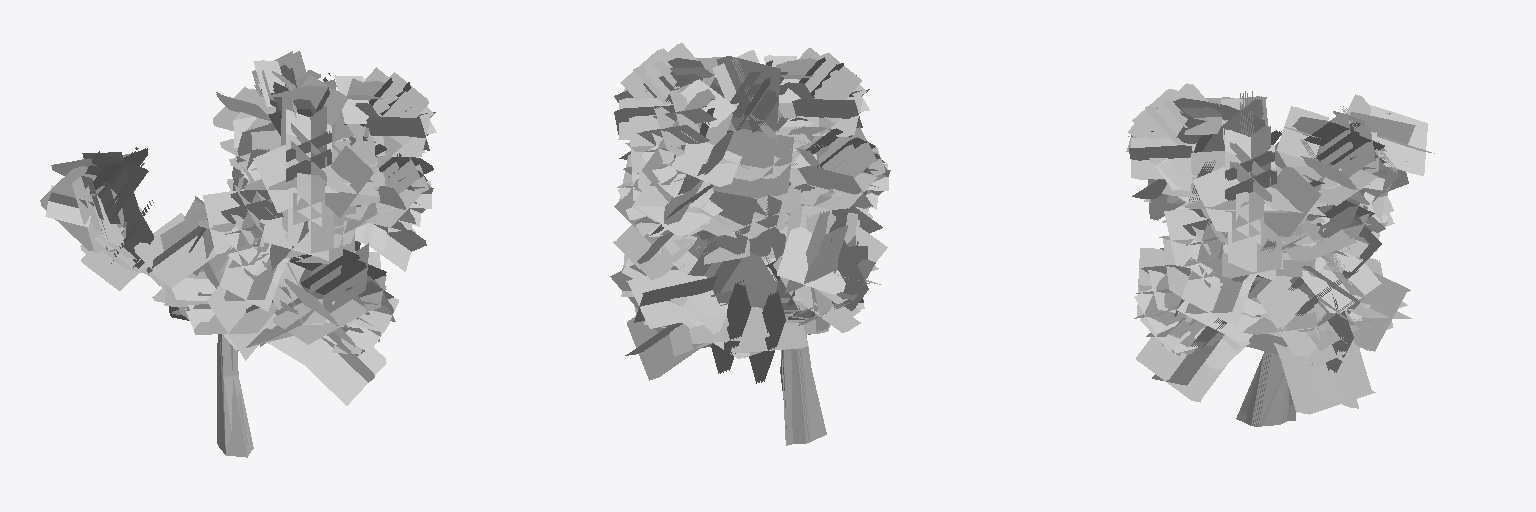
The model's file is Sharp_ScrubPine04.obj.
The picture shows the model from 3 angles: view 1: azimuth 30°, elevation 25°; view 2: azimuth 150°, elevation 25°; view 3: azimuth 270°, elevation 25°; orthographic projection.
Visible parts, largest first — view 1: Efol#3_Mesh.013, AFOl#3_Mesh.043, Dfol#3_Mesh.023, Cfol#3_Mesh.033, Bfol#3_Mesh.053, Efol#2_Mesh.012, Trunk#3_Mesh.003, AFOl#2_Mesh.042, Dfol#2_Mesh.022, Efol_Mesh.011, Cfol_Mesh.031, Cfol#2_Mesh.032 (+11 smaller); view 2: Efol#6_Mesh.016, Efol#3_Mesh.013, Efol#7_Mesh.017, AFOl#9_Mesh.049, Dfol#7_Mesh.027, Cfol#9_Mesh.039, Efol#10_Mesh.020, AFOl#7_Mesh.047, AFOl#10_Mesh.050, Efol#9_Mesh.019, AFOl#8_Mesh.048, Efol#4_Mesh.014 (+26 smaller); view 3: Efol#3_Mesh.013, AFOl#3_Mesh.043, Efol#6_Mesh.016, AFOl#8_Mesh.048, AFOl#7_Mesh.047, Efol#7_Mesh.017, Efol#4_Mesh.014, AFOl#10_Mesh.050, Cfol#9_Mesh.039, Efol#8_Mesh.018, Dfol#3_Mesh.023, Efol#5_Mesh.015 (+19 smaller).
Part boxes in pixels (left/top/right/bottom): Efol#3_Mesh.013: left=214, top=54, right=432, bottom=260; AFOl#3_Mesh.043: left=154, top=241, right=398, bottom=405; Dfol#3_Mesh.023: left=202, top=138, right=431, bottom=311; Cfol#3_Mesh.033: left=42, top=148, right=153, bottom=290; Bfol#3_Mesh.053: left=135, top=200, right=224, bottom=329; Efol#2_Mesh.012: left=215, top=63, right=436, bottom=258; Trunk#3_Mesh.003: left=147, top=274, right=253, bottom=457; AFOl#2_Mesh.042: left=169, top=241, right=397, bottom=405; Dfol#2_Mesh.022: left=205, top=147, right=433, bottom=300; Efol_Mesh.011: left=233, top=53, right=435, bottom=258; Cfol_Mesh.031: left=44, top=157, right=151, bottom=290; Cfol#2_Mesh.032: left=43, top=156, right=153, bottom=273; Efol#6_Mesh.016: left=622, top=44, right=857, bottom=235; Efol#3_Mesh.013: left=623, top=43, right=869, bottom=220; Efol#7_Mesh.017: left=617, top=50, right=856, bottom=235; AFOl#9_Mesh.049: left=625, top=228, right=798, bottom=380; Dfol#7_Mesh.027: left=617, top=128, right=883, bottom=278; Cfol#9_Mesh.039: left=777, top=211, right=859, bottom=333; Efol#10_Mesh.020: left=614, top=59, right=847, bottom=224; AFOl#7_Mesh.047: left=628, top=233, right=857, bottom=382; AFOl#10_Mesh.050: left=610, top=230, right=778, bottom=373; Efol#9_Mesh.019: left=614, top=59, right=849, bottom=236; AFOl#8_Mesh.048: left=626, top=230, right=800, bottom=383; Efol#4_Mesh.014: left=625, top=43, right=867, bottom=234; Efol#3_Mesh.013: left=1127, top=84, right=1388, bottom=278; AFOl#3_Mesh.043: left=1134, top=239, right=1400, bottom=412; Efol#6_Mesh.016: left=1134, top=84, right=1382, bottom=279; AFOl#8_Mesh.048: left=1144, top=249, right=1408, bottom=413; AFOl#7_Mesh.047: left=1143, top=241, right=1411, bottom=413; Efol#7_Mesh.017: left=1136, top=90, right=1384, bottom=279; Efol#4_Mesh.014: left=1128, top=84, right=1386, bottom=278; AFOl#10_Mesh.050: left=1158, top=260, right=1407, bottom=414; Cfol#9_Mesh.039: left=1360, top=106, right=1434, bottom=196; Efol#8_Mesh.018: left=1139, top=103, right=1383, bottom=279; Dfol#3_Mesh.023: left=1144, top=179, right=1377, bottom=322; Efol#5_Mesh.015: left=1132, top=84, right=1378, bottom=279.
Size of the model in its own units: 23.96 by 24.91 by 19.89.